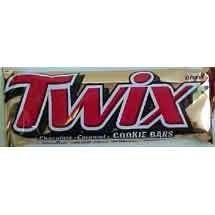grozi_11: (0, 67, 214, 147)
